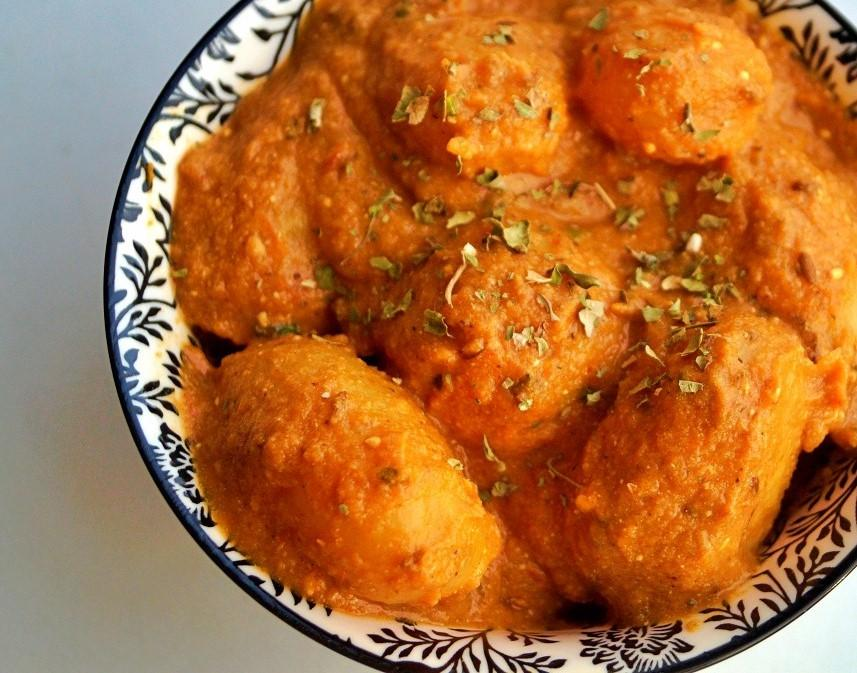DumAloo: (172, 0, 857, 627)
